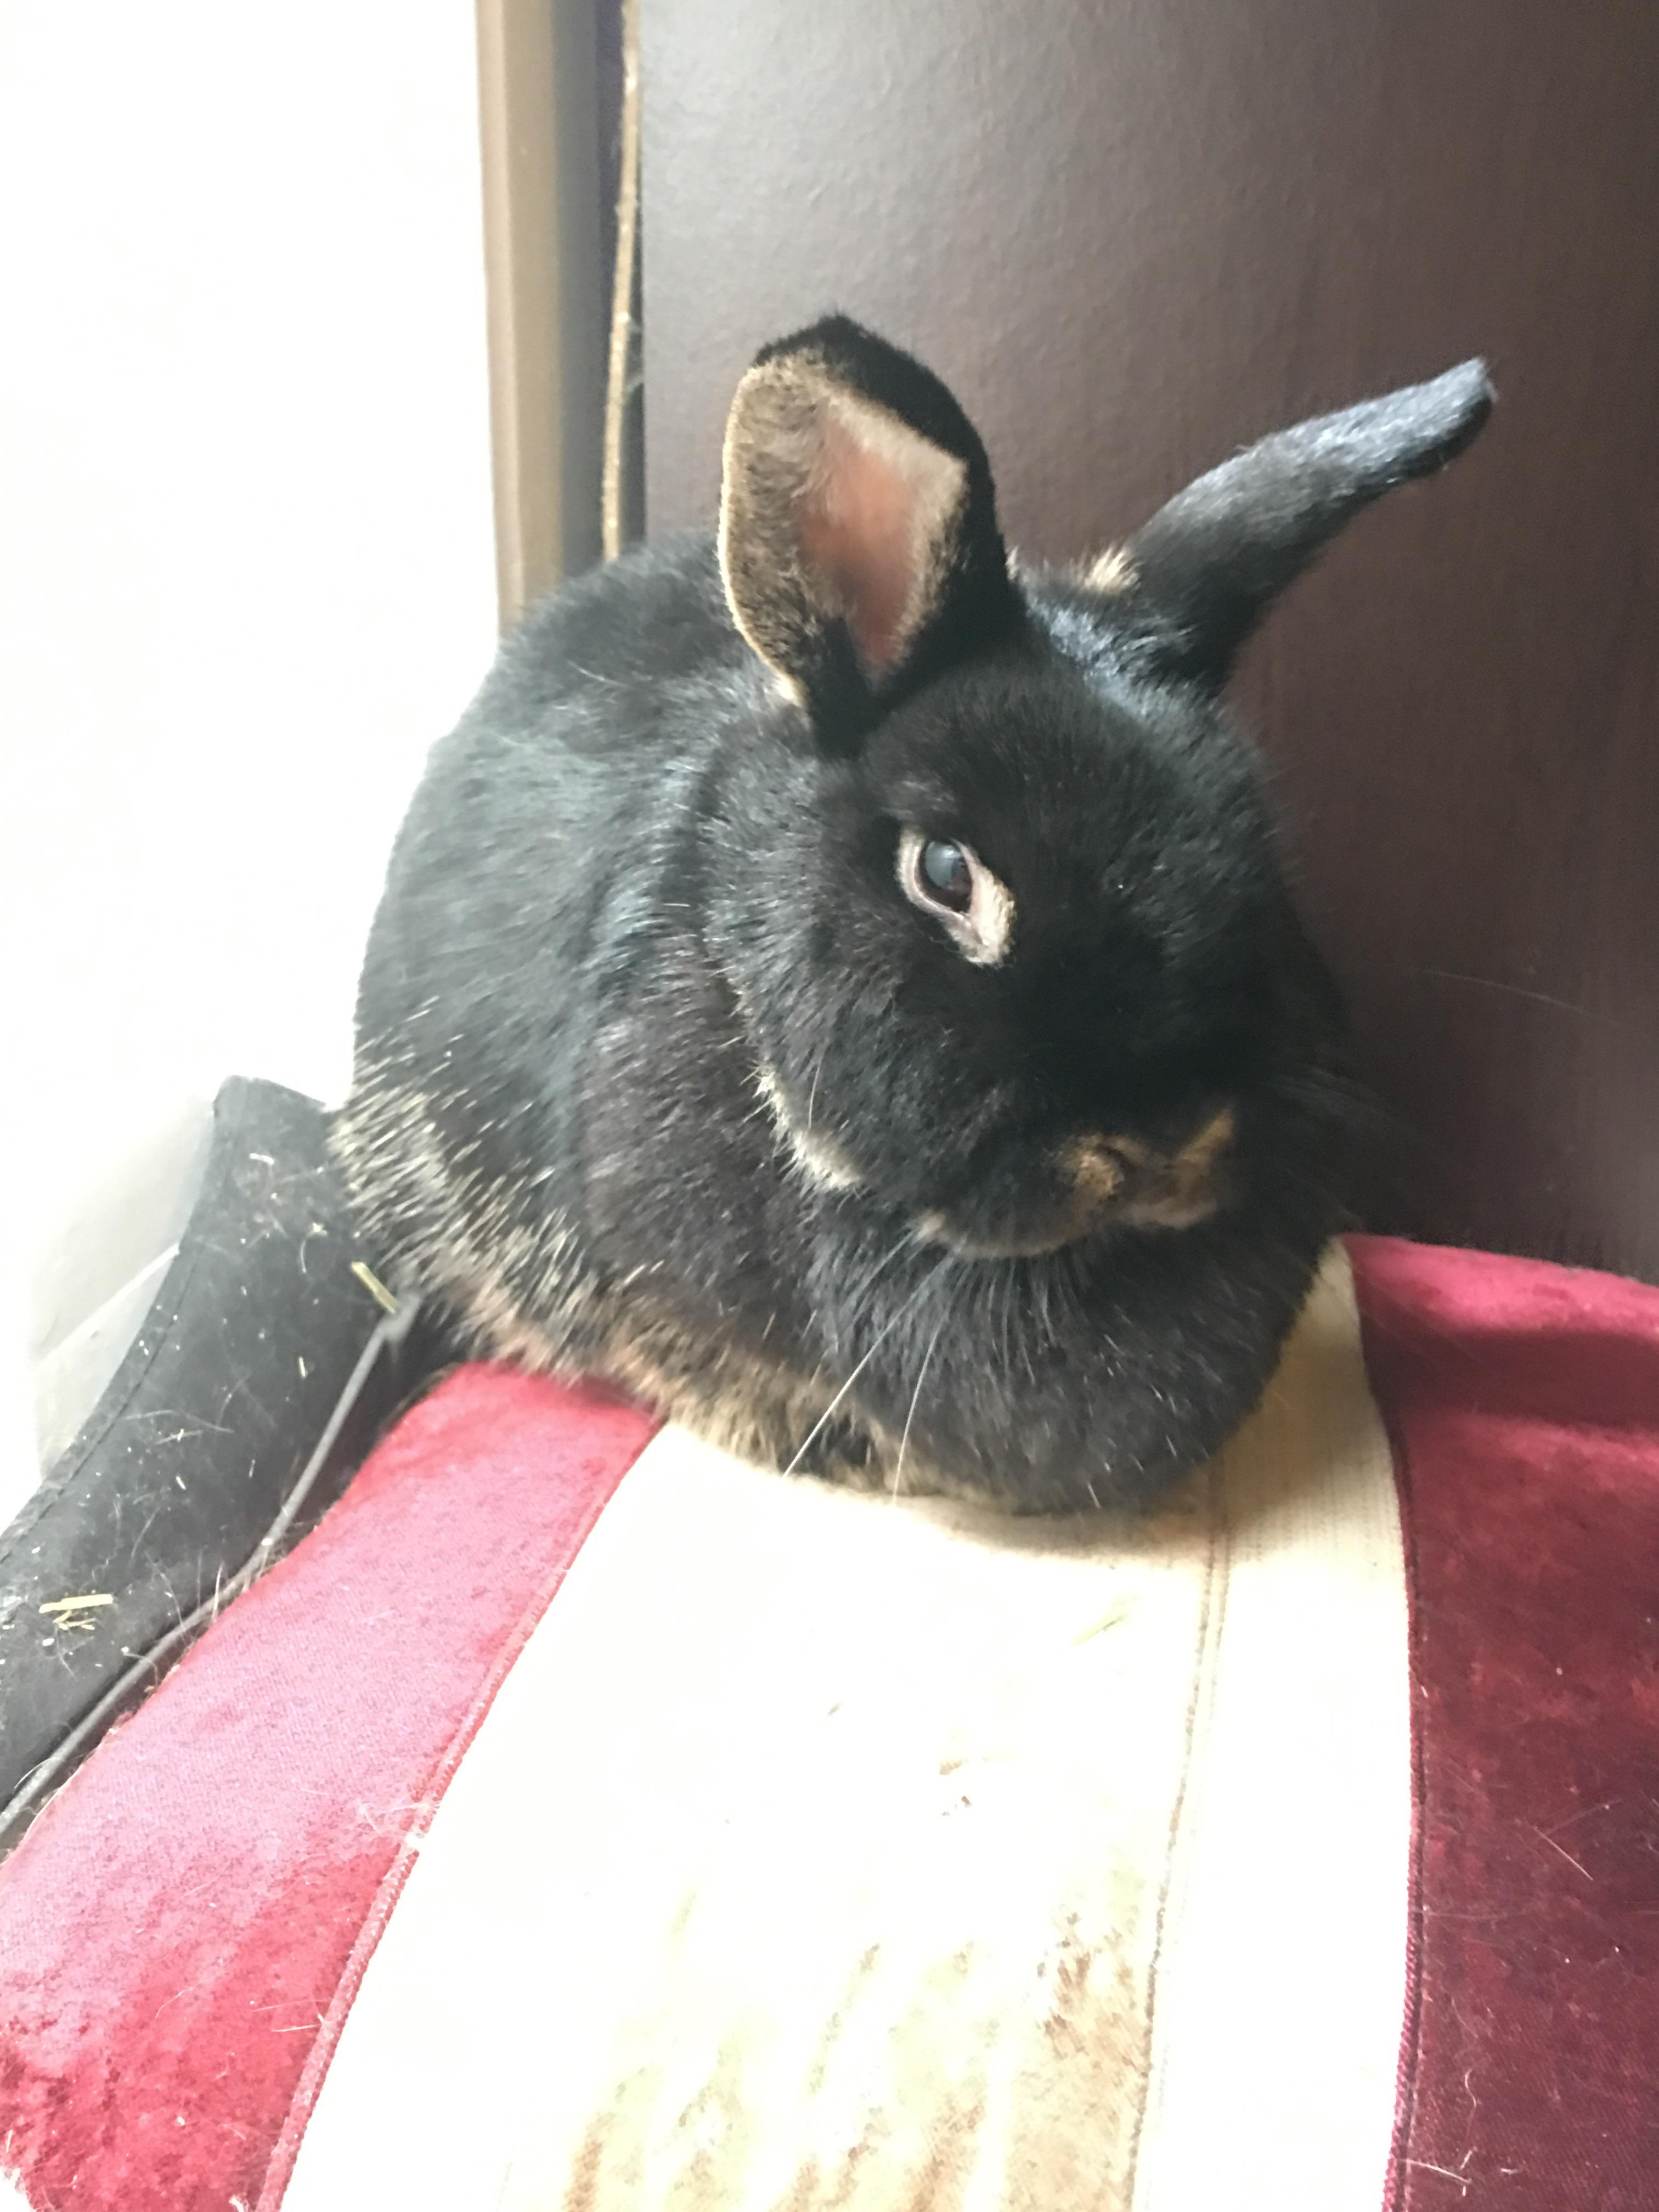bunny: (300, 294, 1539, 1580)
